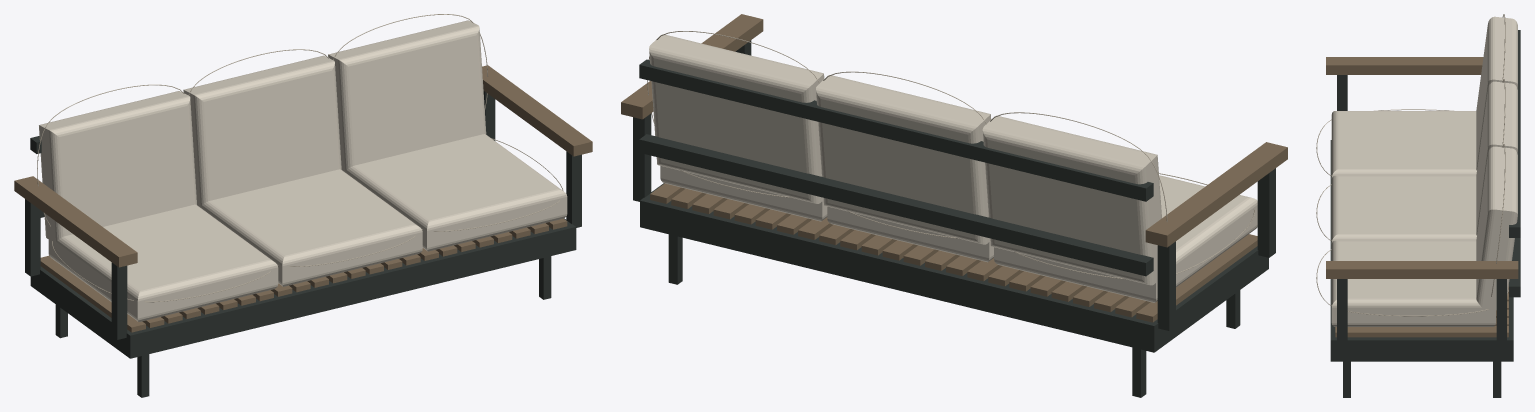
File: outdoor-sofa-lod0.glb
3 renders of one model, left to right at view 1: azimuth 30°, elevation 25°; view 2: azimuth 150°, elevation 25°; view 3: azimuth 270°, elevation 25°, orthographic. The views are drawn at different scales.
Parts seen in each view (by area): view 1: Natural woven outdoor cushion, Powder-coated charcoal frame, Warm teak slats, Cushion stitched piping; view 2: Natural woven outdoor cushion, Powder-coated charcoal frame, Warm teak slats, Cushion stitched piping; view 3: Natural woven outdoor cushion, Powder-coated charcoal frame, Warm teak slats, Cushion stitched piping.
Boxes of the visible parts, x1=… form: Natural woven outdoor cushion: x1=39, y1=20, x2=567, y2=321; Powder-coated charcoal frame: x1=25, y1=91, x2=581, y2=397; Warm teak slats: x1=14, y1=65, x2=592, y2=332; Cushion stitched piping: x1=37, y1=14, x2=563, y2=302; Natural woven outdoor cushion: x1=649, y1=34, x2=1257, y2=302; Powder-coated charcoal frame: x1=633, y1=40, x2=1275, y2=397; Warm teak slats: x1=621, y1=14, x2=1287, y2=322; Cushion stitched piping: x1=647, y1=31, x2=1254, y2=279; Natural woven outdoor cushion: x1=1331, y1=16, x2=1517, y2=326; Powder-coated charcoal frame: x1=1330, y1=30, x2=1520, y2=397; Warm teak slats: x1=1326, y1=57, x2=1518, y2=337; Cushion stitched piping: x1=1316, y1=14, x2=1508, y2=316.
Size of the model in its own units: 2.14 by 0.989 by 0.8705.
